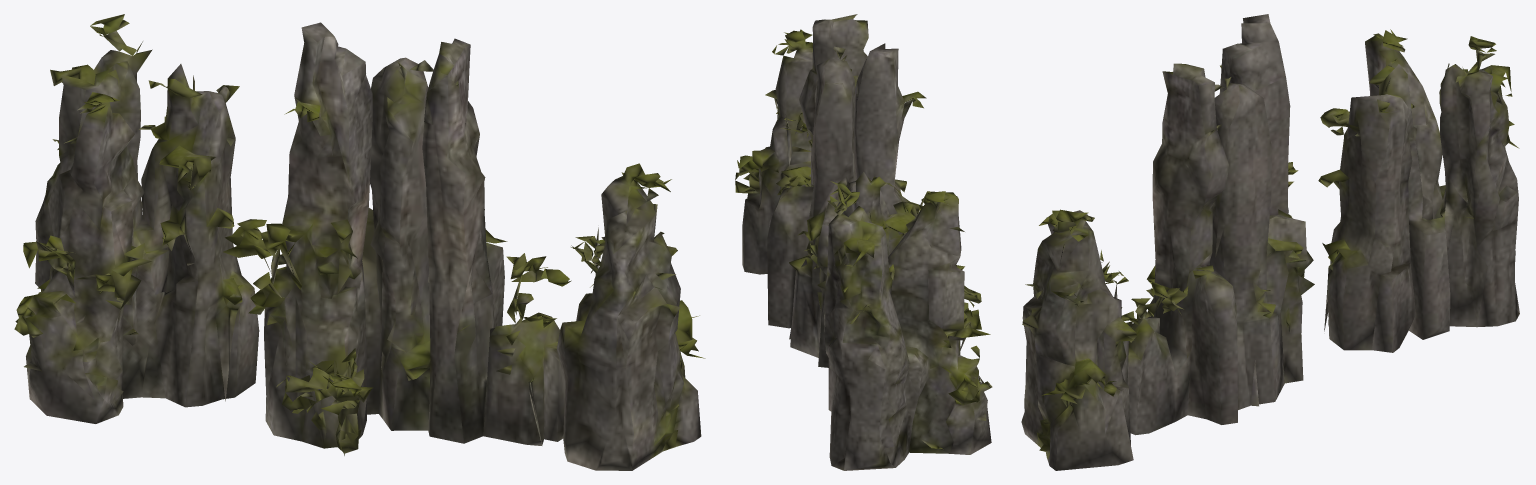
Rendered from pillars_b_xfar.glb.
The picture shows the model from 3 angles, left to right: view 1: azimuth 30°, elevation 25°; view 2: azimuth 150°, elevation 25°; view 3: azimuth 270°, elevation 25°; orthographic projection. The views are drawn at different scales.
Parts seen in each view (by area): view 1: pillars_b; view 2: pillars_b; view 3: pillars_b.
Boxes of the visible parts, x1,y1,x2,y2 form: pillars_b: [14, 14, 705, 470]; pillars_b: [735, 14, 992, 470]; pillars_b: [1021, 14, 1519, 470].
Size of the model in its own units: 1.85 by 1.39 by 1.86.
Materials: 1 (1 with a texture image).
